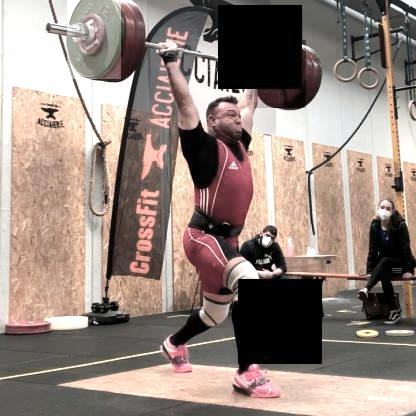barbell: (67, 1, 121, 80), (255, 41, 307, 108)
